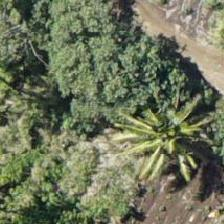coconut_tree: (120, 95, 210, 185)
